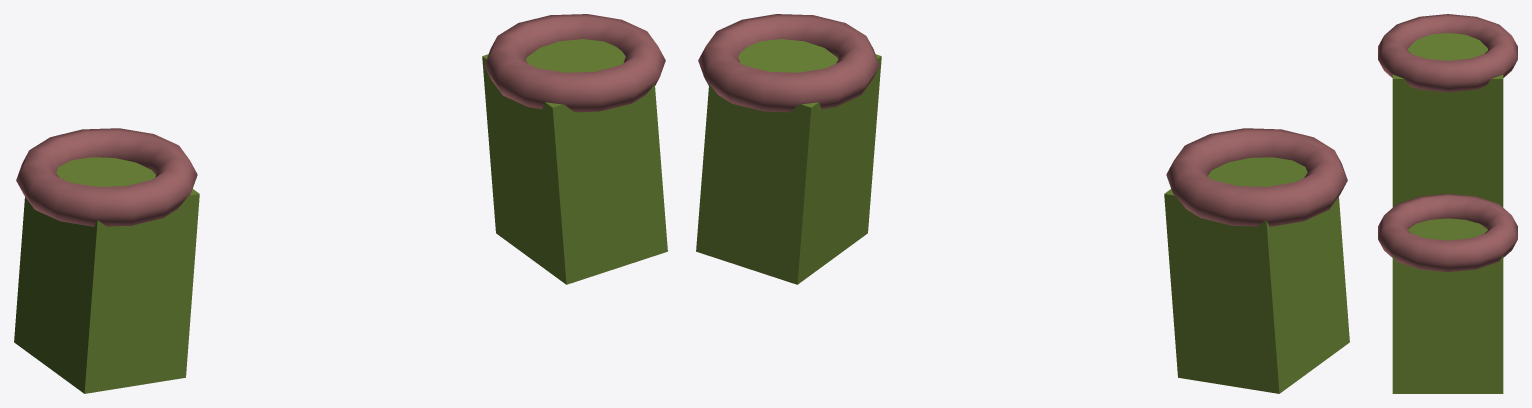
File: hands.glb
3 renders of one model, left to right at view 1: azimuth 30°, elevation 25°; view 2: azimuth 150°, elevation 25°; view 3: azimuth 270°, elevation 25°, orthographic. The views are drawn at different scales.
Parts seen in each view (by area): view 1: gauntlet_-1, gauntlet_1, cuff_-1, cuff_1; view 2: gauntlet_-1, gauntlet_1, cuff_-1, cuff_1; view 3: gauntlet_1, gauntlet_-1, cuff_1, cuff_-1.
Boxes of the visible parts, x1,y1,x2,y2 form: gauntlet_-1: (14, 157, 199, 393); gauntlet_1: (482, 39, 667, 284); cuff_-1: (16, 128, 197, 226); cuff_1: (484, 14, 665, 112); gauntlet_-1: (1164, 157, 1349, 393); gauntlet_1: (696, 39, 881, 284); cuff_-1: (1166, 128, 1347, 226); cuff_1: (698, 14, 879, 112); gauntlet_1: (1392, 218, 1503, 393); gauntlet_-1: (1392, 33, 1503, 207); cuff_1: (1378, 193, 1517, 271); cuff_-1: (1378, 14, 1517, 92).
Bounding box in the file's own units: 1.23 × 0.3816 × 0.3022.
